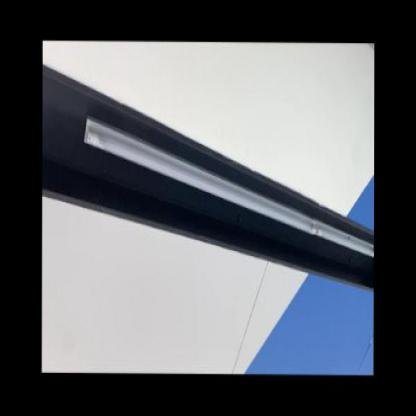light_off: (79, 94, 374, 300)
